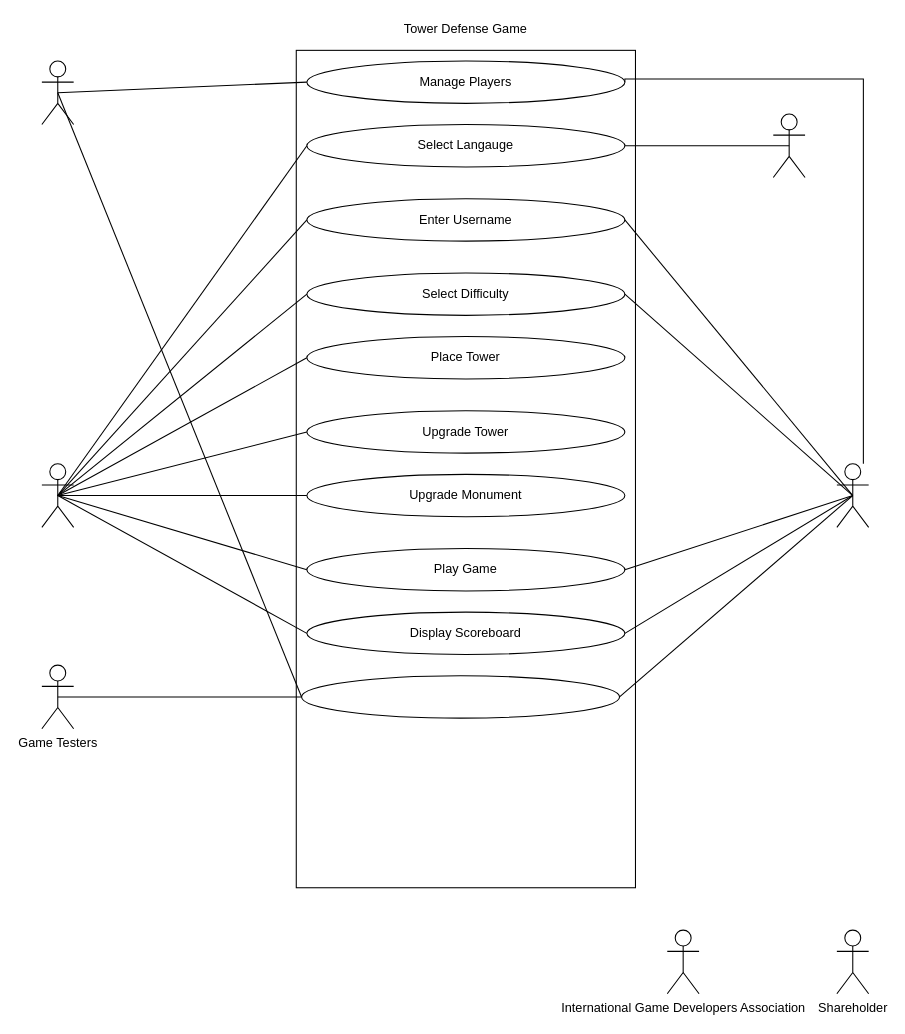
Some shapes in this 905 by 1034 pixel diagram are drawn without their labels. The centre of each missing label's shape, as x and y in pixels:
"Contractor" goes at (x=788, y=145).
"Game Admin" goes at (x=57, y=92).
"Player" goes at (x=57, y=495).
"Report Issues" goes at (x=460, y=696).
"Third Party Database Service" goes at (x=852, y=495).
